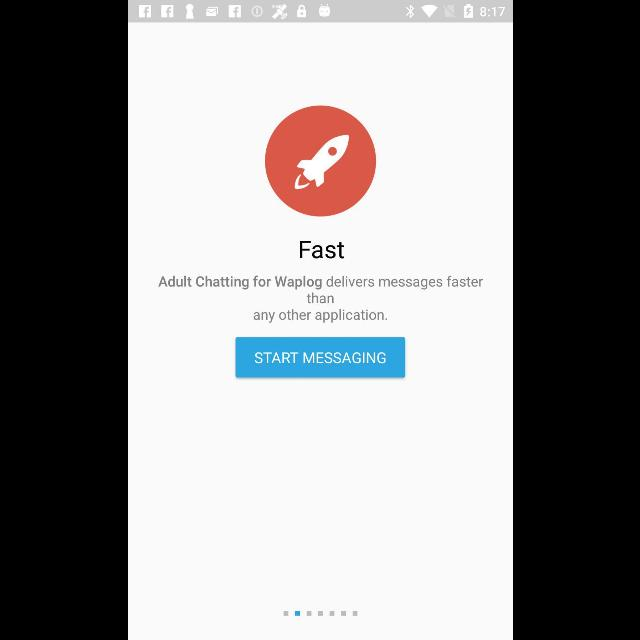image: (264, 105, 376, 217)
pageindicator: (282, 610, 358, 616)
text: (158, 275, 482, 323), (299, 241, 343, 259)
textbutton: (235, 337, 405, 377)
uppertaskbar: (128, 1, 512, 23)
